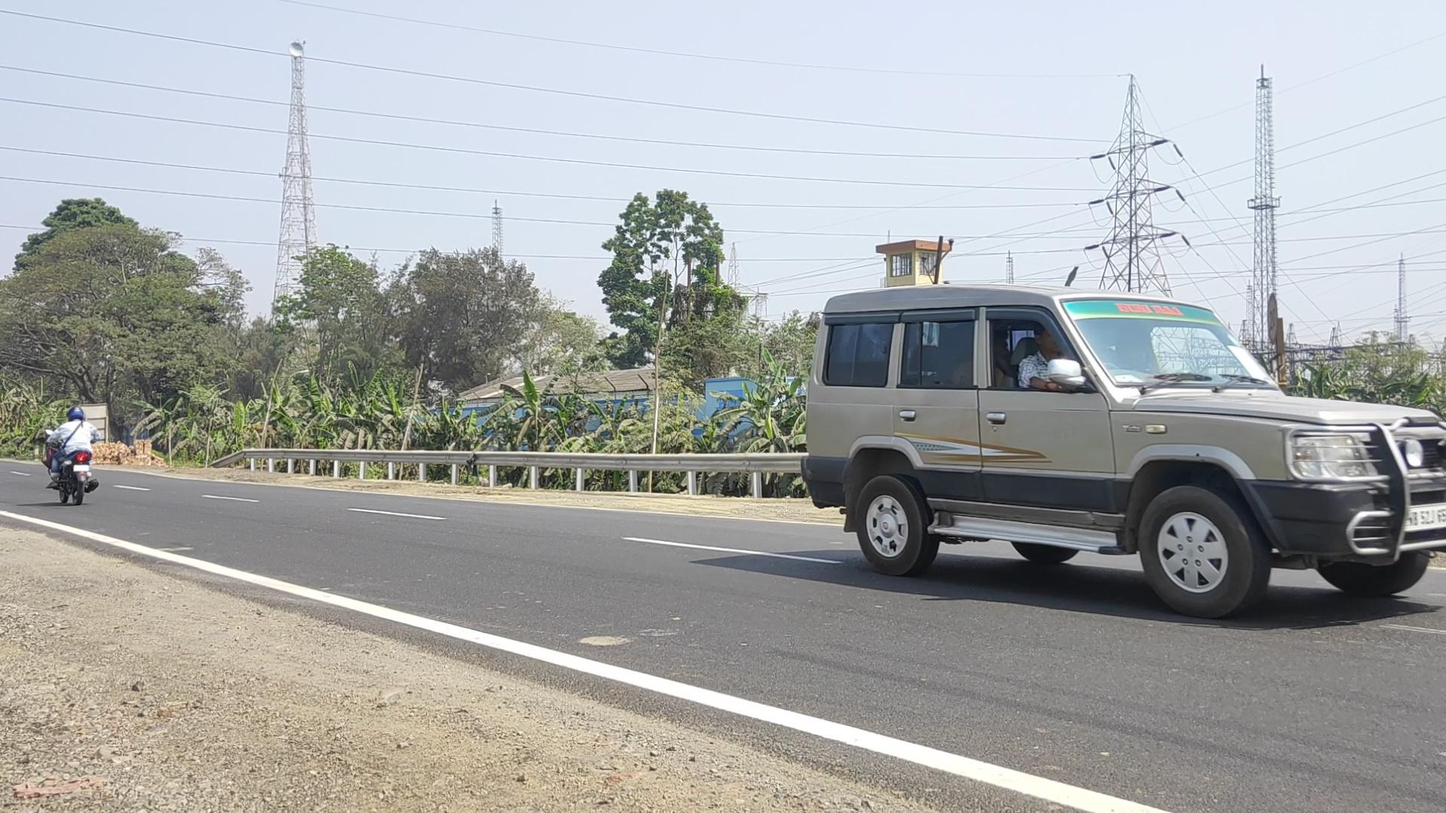bike: (42, 406, 99, 507)
car: (802, 285, 1446, 620)
